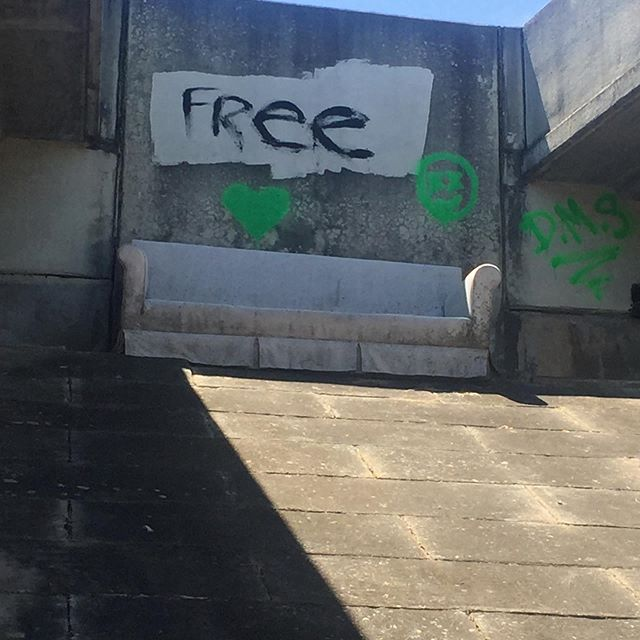couch: (121, 227, 504, 389)
graffiti: (145, 14, 485, 240), (521, 178, 622, 298)
